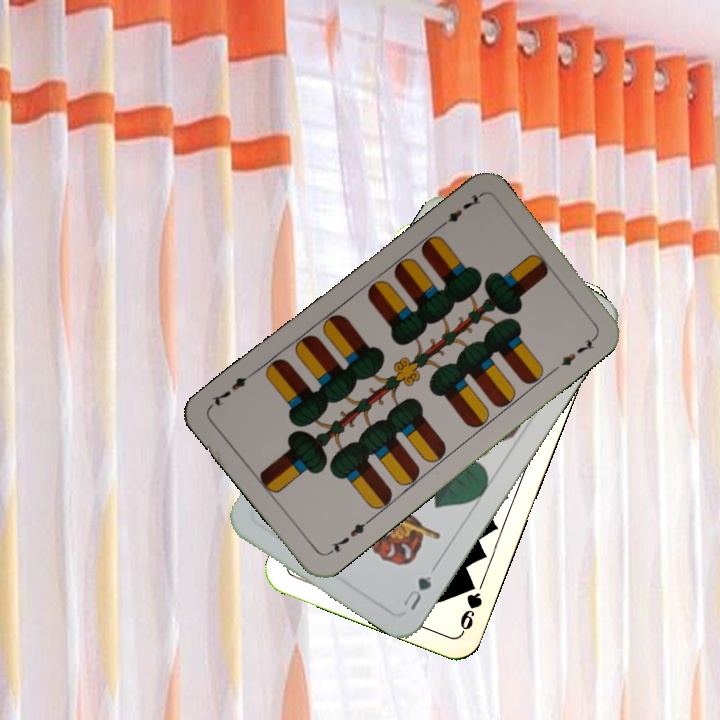E7: (433, 190, 484, 232), (324, 515, 373, 557)
G9: (456, 575, 485, 636)
GU: (397, 571, 434, 613)
